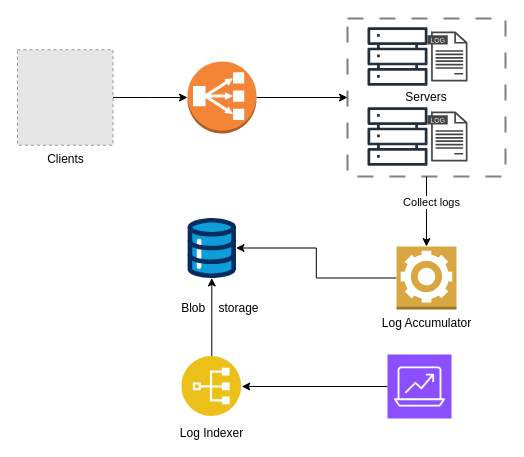
This 524x457 diagram has some shape labels left out. Grey dashed boxes stand in for pictures. The shapes that lost their labels are listed below. From the top down, each one's centre as x and y in pixels, then its label:
the point at 221,97: Load Balancer
the point at 419,386: Visualizer
